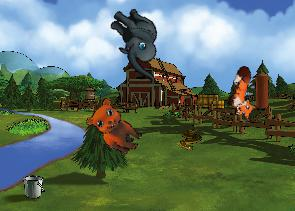bear: (81, 94, 151, 158)
elephant: (93, 1, 181, 85)
fox: (221, 64, 271, 124)
